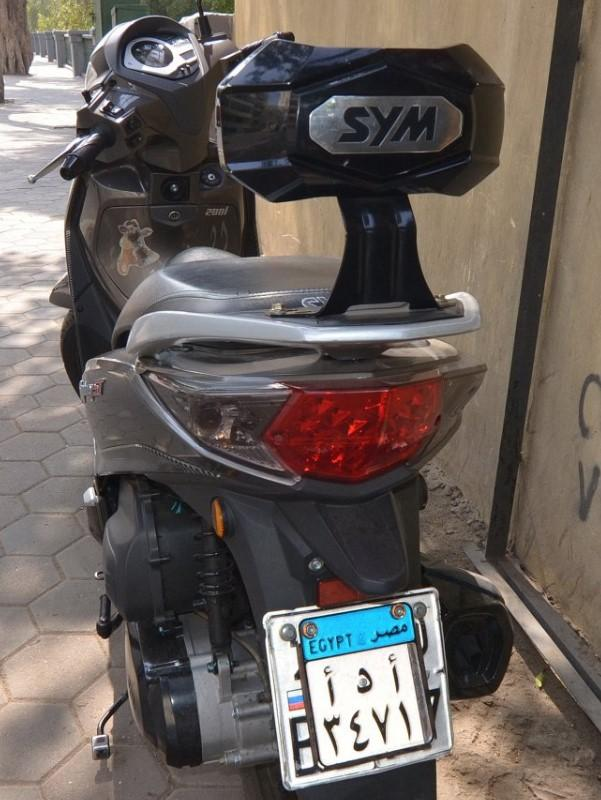License Plate: (299, 606, 437, 772)
